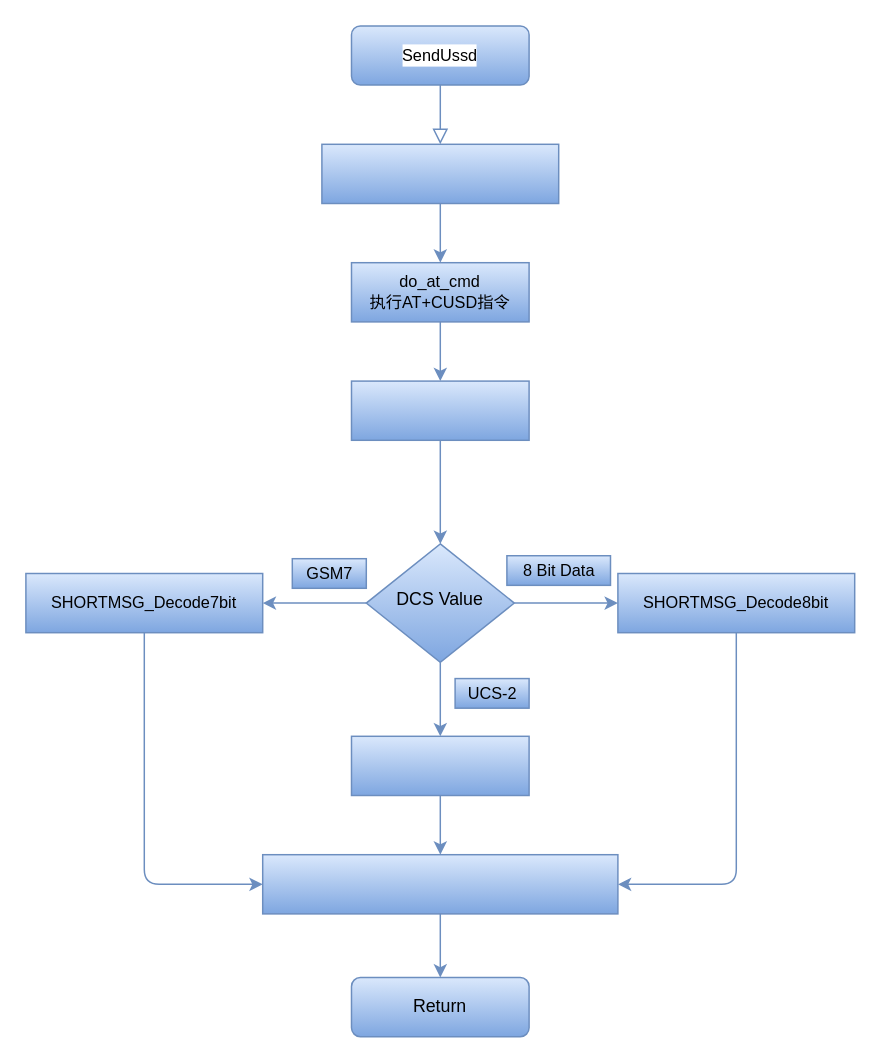
Some shapes in this 881 by 1063 pixel diagram are drawn without their labels. The shapes that lost their labels are listed below. From the top down, each one's centre as x and y in pixels, then its label:
the point at 439,173: 获取USSD指令，即USSD命令或者菜单选项
the point at 439,410: decode_ussd_output 解析AT指令结果
the point at 439,765: UCS2toUTF8Code
the point at 439,883: send_response_webclient_socket 将AT指令执行结果返回给Web
